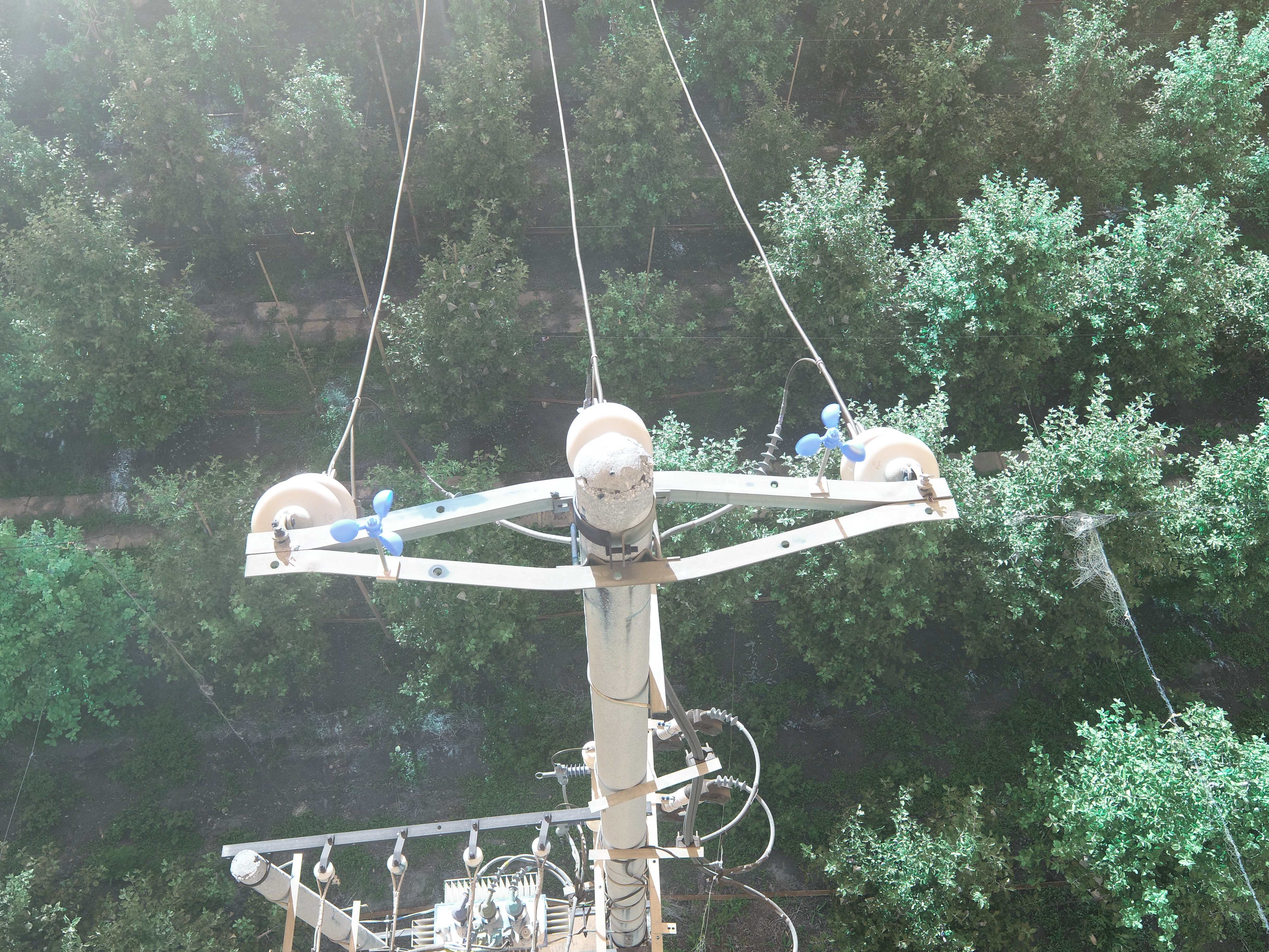severe_soiling_no_discharge_whole: (385, 853, 409, 876)
